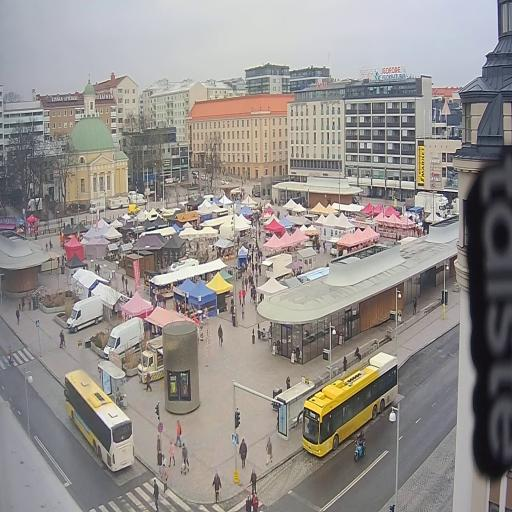bus: (302, 353, 398, 457), (64, 370, 134, 471)
delivery: (103, 317, 144, 359), (67, 296, 103, 332), (138, 336, 163, 383), (415, 192, 449, 217)
two-wheels: (354, 432, 365, 461)
